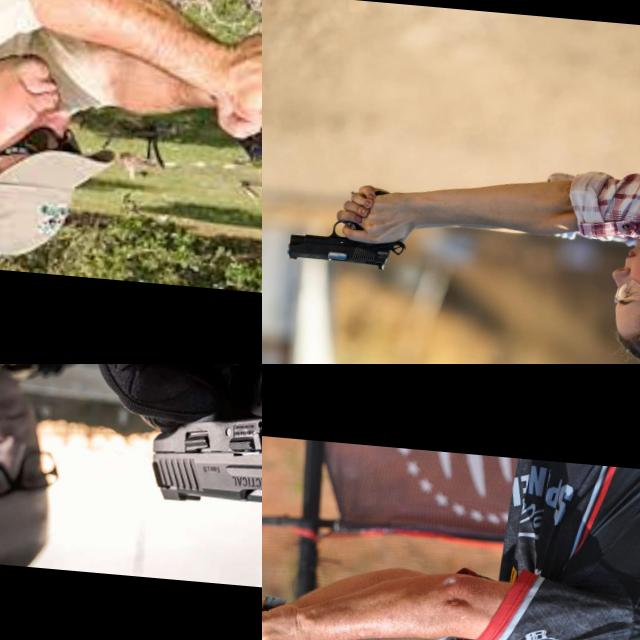handgun: (141, 364, 262, 543), (281, 180, 411, 274), (233, 89, 262, 174)
